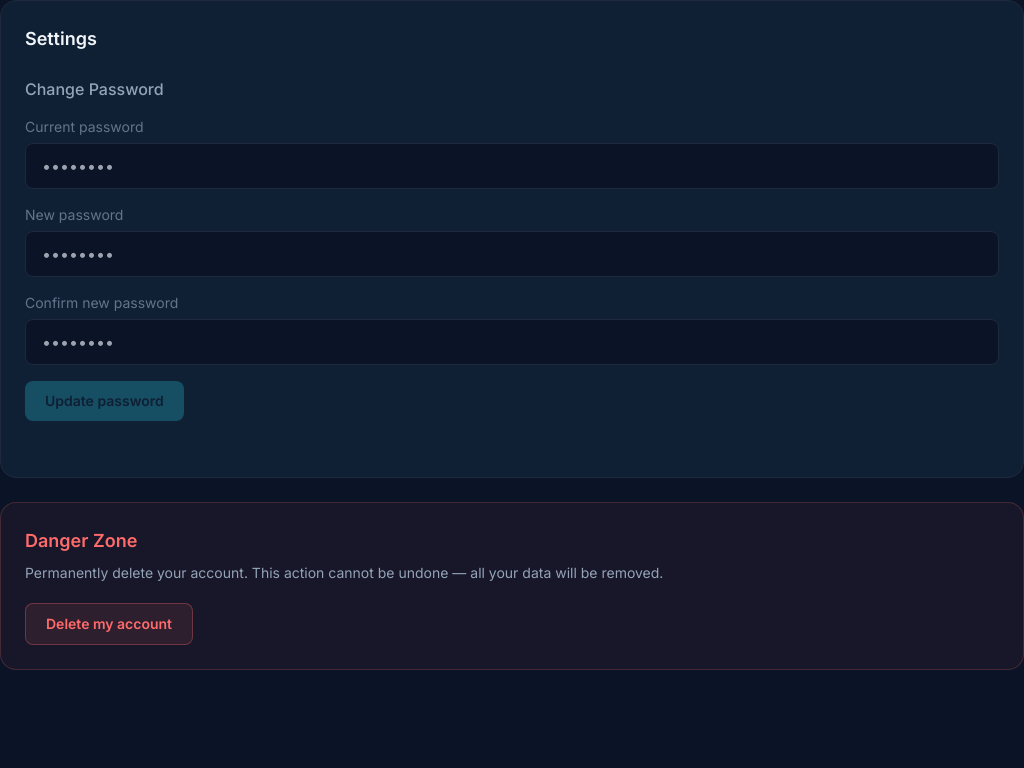
Scenario: AccountSettings — password change › rejects new password under 8 characters
In the password field with placeholder "••••••••" below "Current password": [512, 166] box [25,143,999,189], type "old"
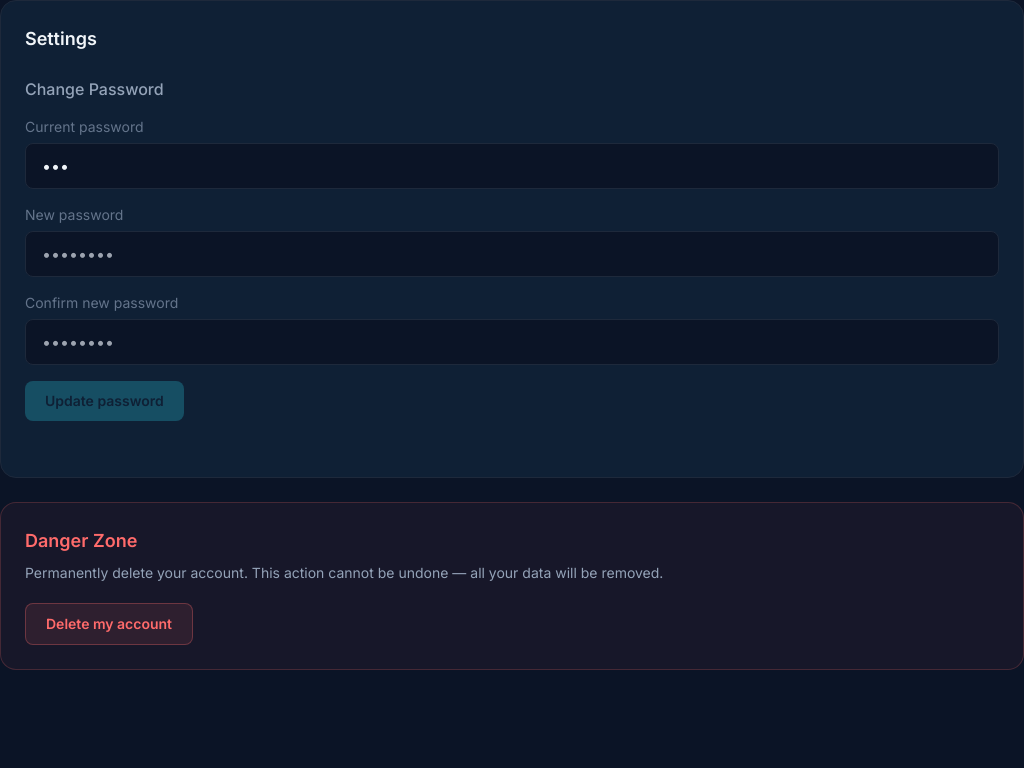
In the 1st password field with placeholder "••••••••": [512, 254] box [25,231,999,277], type "short"
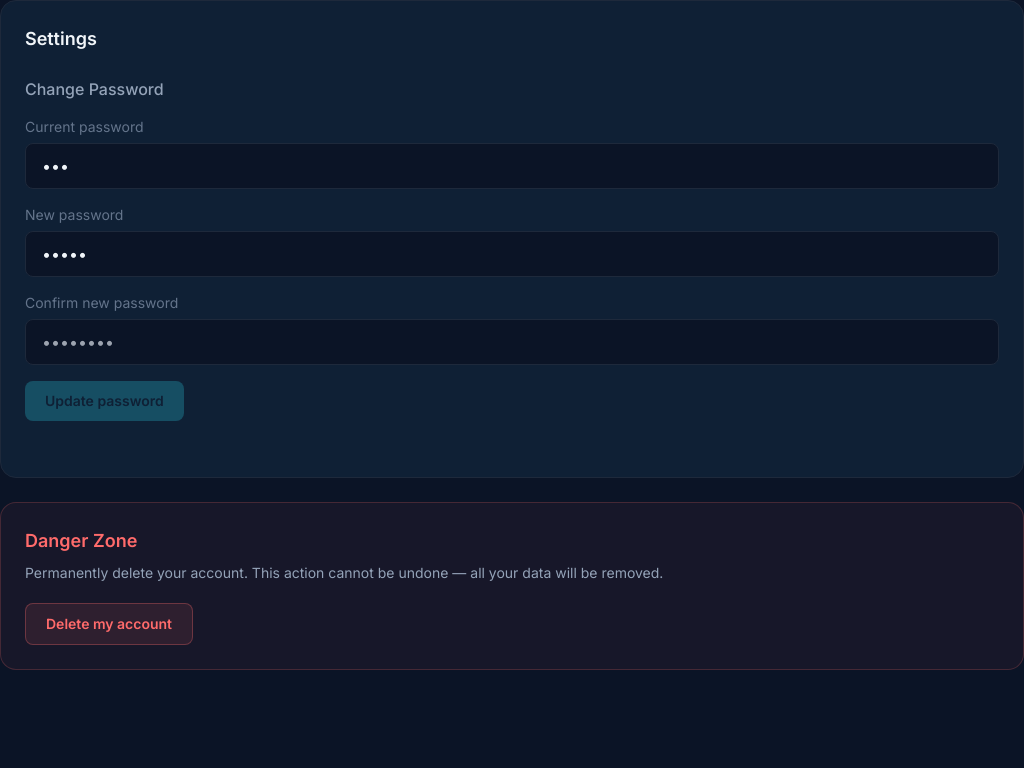
In the password field with placeholder "••••••••": [512, 342] box [25,319,999,365], type "short"
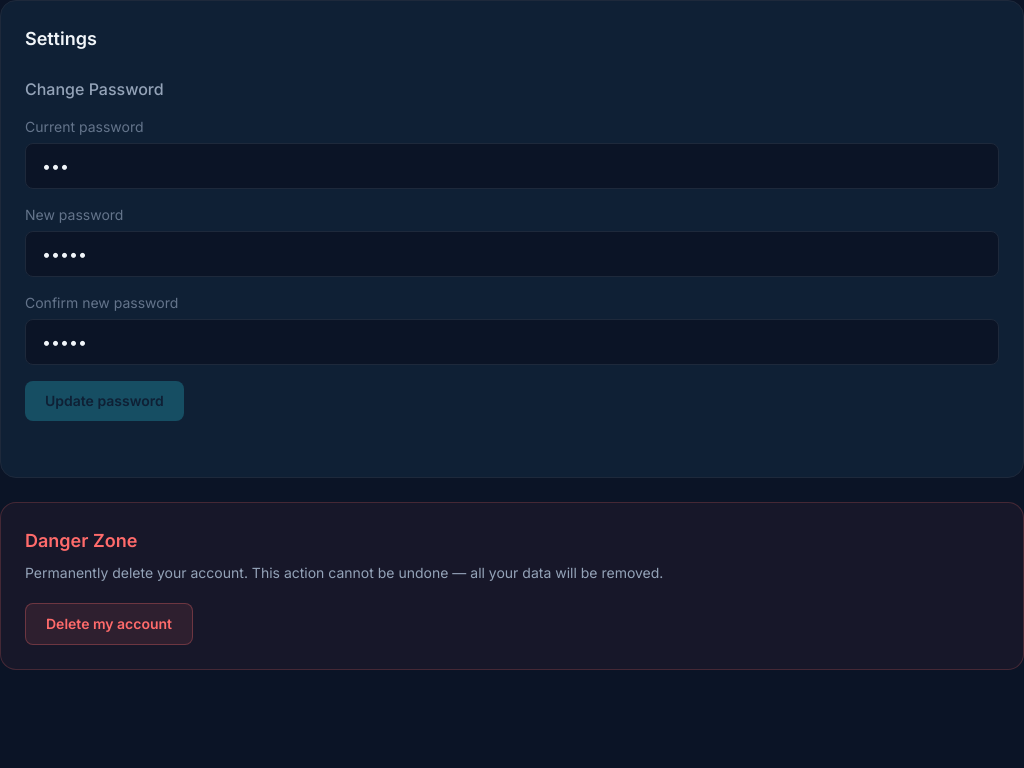
Submit the form, box [25,117,999,421]
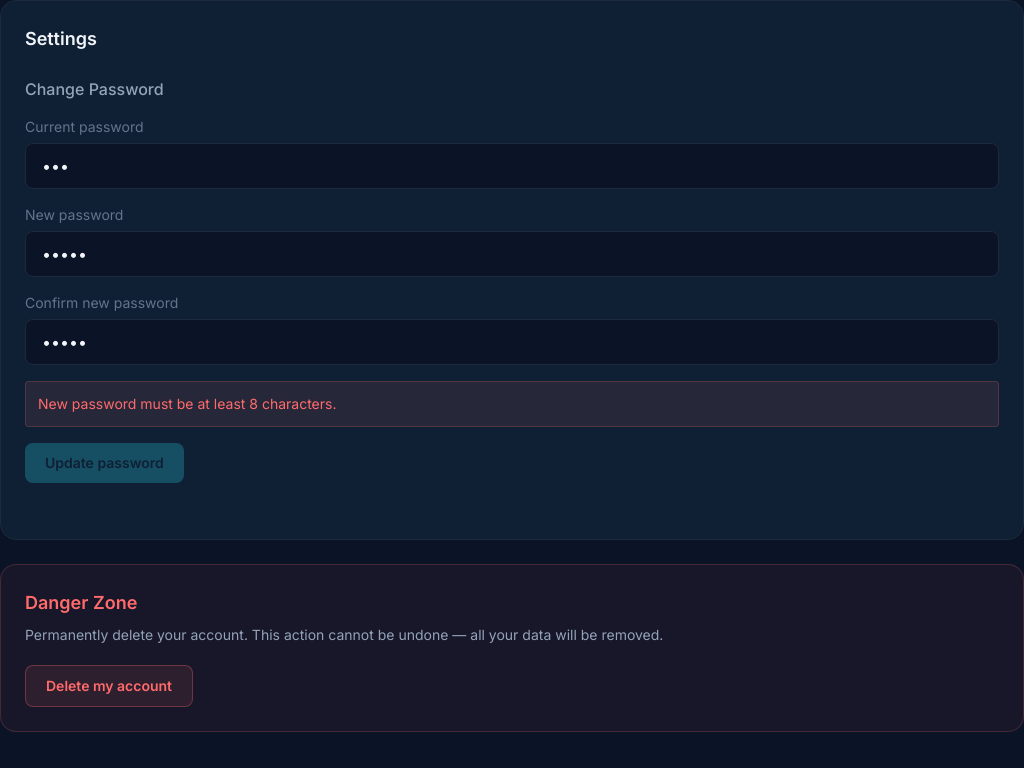
Check: the text "at least 8 characters" is shown, box [38,395,336,412]
